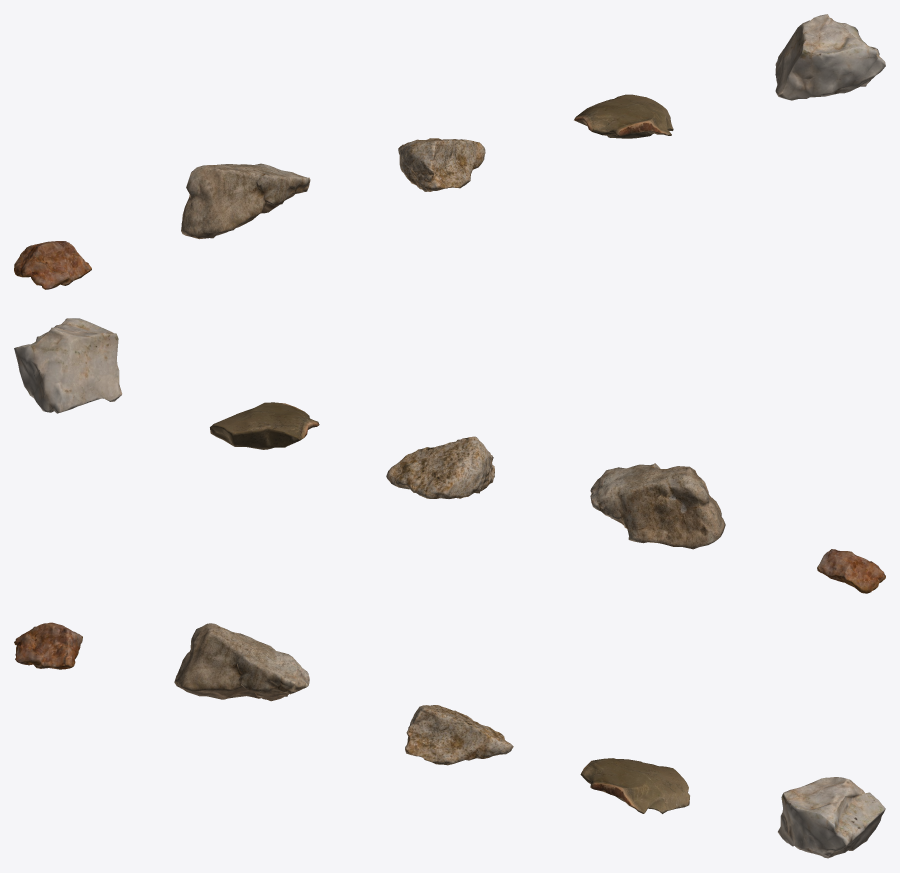
File: stones.glb
The picture shows the model from 3 angles, top to bottom: view 1: azimuth 30°, elevation 25°; view 2: azimuth 150°, elevation 25°; view 3: azimuth 330°, elevation 25°; orthographic projection.
Visible parts, largest first — view 1: stones; view 2: stones; view 3: stones.
Boxes of the visible parts, x1,y1,x2,y2 form: stones: (14,14,885,289); stones: (14,318,885,593); stones: (14,622,885,858).
Bounding box in the file's own units: 1.02 × 0.0833 × 0.1119.
Materials: 1 (1 with a texture image).
